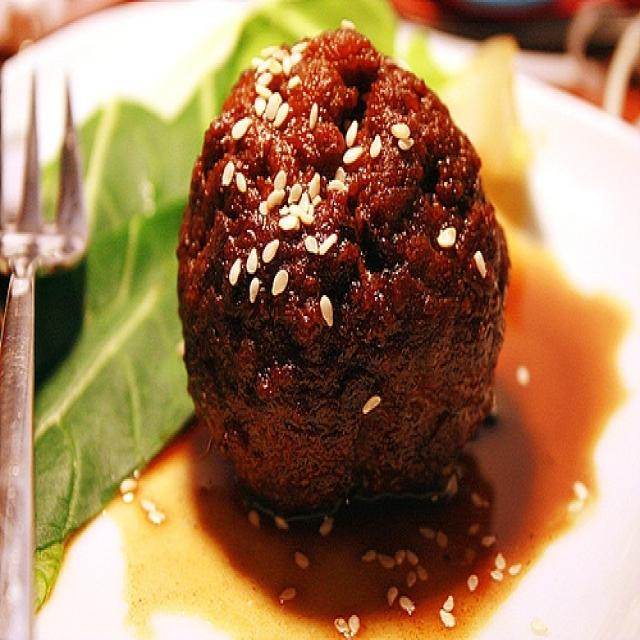猪肉菜式: (59, 25, 612, 621)
